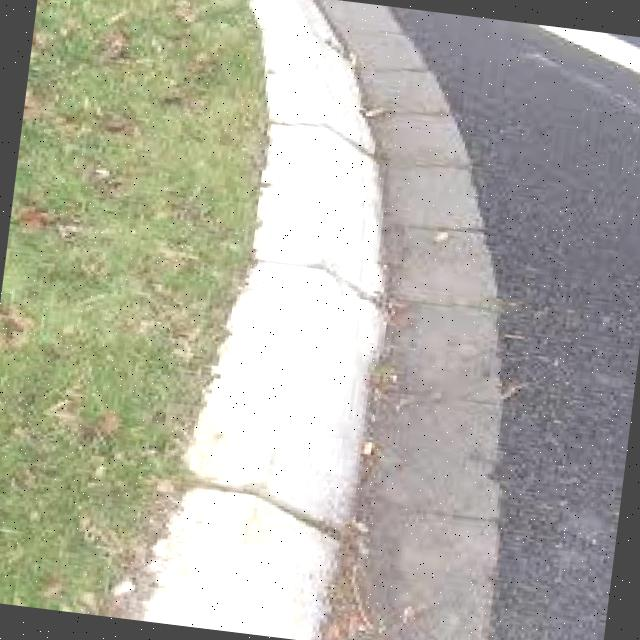curb: (142, 107, 433, 640), (239, 1, 376, 127)
